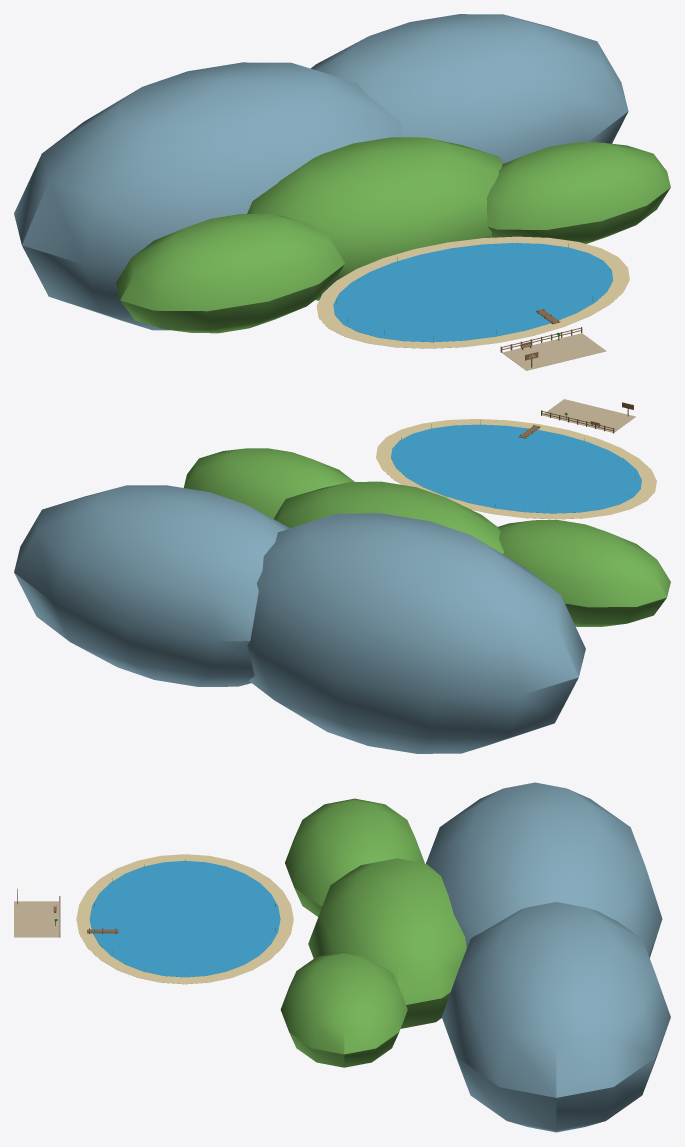
The model's file is world_lookout.glb.
3 views of the same model, one above another, from view 1: azimuth 30°, elevation 25°; view 2: azimuth 150°, elevation 25°; view 3: azimuth 270°, elevation 25° (orthographic). The views are drawn at different scales.
Visible parts, largest first — view 1: WorldLookout_body; view 2: WorldLookout_body; view 3: WorldLookout_body.
Part boxes in pixels (<box>): WorldLookout_body: <box>14,14,670,370</box>; WorldLookout_body: <box>14,399,670,753</box>; WorldLookout_body: <box>14,782,670,1132</box>.
Bounding box in the file's own units: 122 × 44 × 124.
